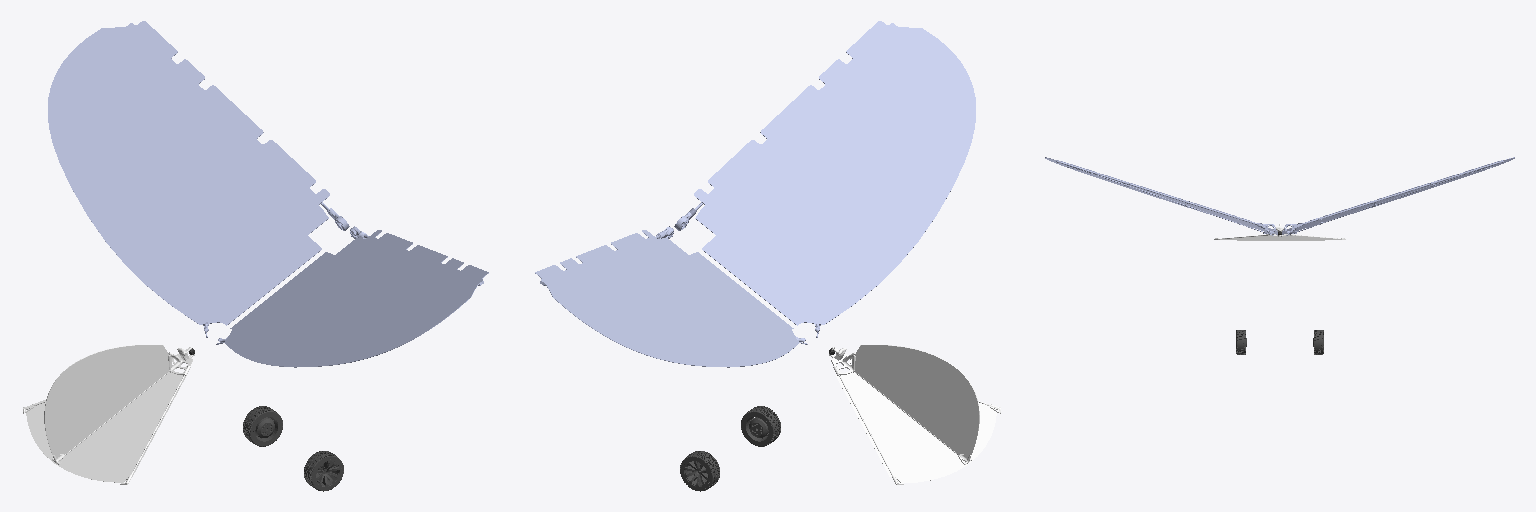
robot.urdf — 走地鹰:
<?xml version="1.0" encoding="utf-8"?>
<!-- This URDF was automatically created by SolidWorks to URDF Exporter! Originally created by Stephen Brawner (brawner@gmail.com) 
     Commit Version: 1.6.0-4-g7f85cfe  Build Version: 1.6.7995.38578
     For more information, please see http://wiki.ros.org/sw_urdf_exporter -->
<robot
  name="走地鹰">
  <link
    name="base_link">
    <inertial>
      <origin
        xyz="0.04588263 3.771E-05 0.04501853"
        rpy="0 0 0" />
      <mass
        value="1.79744014" />
      <inertia
        ixx="0.01509778"
        ixy="1.56E-06"
        ixz="-0.01047094"
        iyy="0.02513929"
        iyz="-5.9E-07"
        izz="0.01378862" />
    </inertial>
    <visual>
      <origin
        xyz="0 0 0"
        rpy="0 0 0" />
      <geometry>
        <mesh
          filename="../meshes_lod/base_link.STL" />
      </geometry>
      <material
        name="">
        <color
          rgba="0.75294 0.75294 0.75294 1" />
      </material>
    </visual>
    <collision>
      <origin
        xyz="0 0 0"
        rpy="0 0 0" />
      <geometry>
        <mesh
          filename="../meshes_lod/base_link.STL" />
      </geometry>
    </collision>
  </link>
  <link
    name="left_thigh_link">
    <inertial>
      <origin
        xyz="-0.00030482 0.01377229 0.04429555"
        rpy="0 0 0" />
      <mass
        value="0.46123591" />
      <inertia
        ixx="0.00079664"
        ixy="6.37E-06"
        ixz="-5.18E-06"
        iyy="0.0002148"
        iyz="0.00014042"
        izz="0.00066294" />
    </inertial>
    <visual>
      <origin
        xyz="0 0 0"
        rpy="0 0 0" />
      <geometry>
        <mesh
          filename="../meshes_lod/left_thigh_link.STL" />
      </geometry>
      <material
        name="">
        <color
          rgba="1 1 1 1" />
      </material>
    </visual>
    <collision>
      <origin
        xyz="0 0 0"
        rpy="0 0 0" />
      <geometry>
        <mesh
          filename="../meshes_lod/left_thigh_link.STL" />
      </geometry>
    </collision>
  </link>
  <joint
    name="left_thigh_joint"
    type="revolute">
    <origin
      xyz="0.0150530261970943 0.0558499999999976 -0.0429703632331118"
      rpy="-1.5707963267949 0 0" />
    <parent
      link="base_link" />
    <child
      link="left_thigh_link" />
    <axis
      xyz="0 0 1" />
    <limit
      lower="-1.57"
      upper="1.57"
      effort="0"
      velocity="0" />
  </joint>
  <link
    name="left_calf_link">
    <inertial>
      <origin
        xyz="-2.777E-05 0.12276 0.011335"
        rpy="0 0 0" />
      <mass
        value="0.30875" />
      <inertia
        ixx="0.00078788"
        ixy="3.9E-07"
        ixz="-1E-07"
        iyy="5.504E-05"
        iyz="-9.686E-05"
        izz="0.00077188" />
    </inertial>
    <visual>
      <origin
        xyz="0 0 0"
        rpy="0 0 0" />
      <geometry>
        <mesh
          filename="../meshes_lod/left_calf_link.STL" />
      </geometry>
      <material
        name="">
        <color
          rgba="1 0.94902 0.9098 1" />
      </material>
    </visual>
    <collision>
      <origin
        xyz="0 0 0"
        rpy="0 0 0" />
      <geometry>
        <mesh
          filename="../meshes_lod/left_calf_link.STL" />
      </geometry>
    </collision>
  </link>
  <joint
    name="left_calf_joint"
    type="revolute">
    <origin
      xyz="0.000196973802905953 0.136029636766888 0.0200000000000024"
      rpy="0 0 0" />
    <parent
      link="left_thigh_link" />
    <child
      link="left_calf_link" />
    <axis
      xyz="0 0 -1" />
    <limit
      lower="-1.57"
      upper="1.57"
      effort="0"
      velocity="0" />
  </joint>
  <link
    name="left_foot_link">
    <inertial>
      <origin
        xyz="-6.05E-06 3.53E-06 -0.0026216"
        rpy="0 0 0" />
      <mass
        value="0.12784" />
      <inertia
        ixx="7.506E-05"
        ixy="1E-08"
        ixz="1E-08"
        iyy="7.507E-05"
        iyz="0"
        izz="0.00012118" />
    </inertial>
    <visual>
      <origin
        xyz="0 0 0"
        rpy="0 0 0" />
      <geometry>
        <mesh
          filename="../meshes_lod/left_foot_link.STL" />
      </geometry>
      <material
        name="">
        <color
          rgba="0.36863 0.36863 0.36863 1" />
      </material>
    </visual>
    <collision>
      <origin
        xyz="0 0 0"
        rpy="0 0 0" />
      <geometry>
        <mesh
          filename="../meshes_lod/left_foot_link.STL" />
      </geometry>
    </collision>
  </link>
  <joint
    name="left_foot_joint"
    type="revolute">
    <origin
      xyz="0 0.149999999999687 0.0572"
      rpy="0 0 0" />
    <parent
      link="left_calf_link" />
    <child
      link="left_foot_link" />
    <axis
      xyz="0 0 -1" />
    <limit
      lower="-3.14"
      upper="3.14"
      effort="0"
      velocity="0" />
  </joint>
  <link
    name="right_thigh_link">
    <inertial>
      <origin
        xyz="-0.00056224 -0.01359115 0.04341399"
        rpy="0 0 0" />
      <mass
        value="0.47246" />
      <inertia
        ixx="0.00085033"
        ixy="-8.62E-06"
        ixz="-6.24E-06"
        iyy="0.00023242"
        iyz="-0.00015295"
        izz="0.00070428" />
    </inertial>
    <visual>
      <origin
        xyz="0 0 0"
        rpy="0 0 0" />
      <geometry>
        <mesh
          filename="../meshes_lod/right_thigh_link.STL" />
      </geometry>
      <material
        name="">
        <color
          rgba="0.86667 0.9098 1 1" />
      </material>
    </visual>
    <collision>
      <origin
        xyz="0 0 0"
        rpy="0 0 0" />
      <geometry>
        <mesh
          filename="../meshes_lod/right_thigh_link.STL" />
      </geometry>
    </collision>
  </link>
  <joint
    name="right_thigh_joint"
    type="revolute">
    <origin
      xyz="0.0152499999999884 -0.05585 -0.0431991909058702"
      rpy="1.5707963267949 0 0" />
    <parent
      link="base_link" />
    <child
      link="right_thigh_link" />
    <axis
      xyz="0 0 1" />
    <limit
      lower="-1.57"
      upper="1.57"
      effort="0"
      velocity="0" />
  </joint>
  <link
    name="right_calf_link">
    <inertial>
      <origin
        xyz="-3.151E-05 -0.12276 0.011337"
        rpy="0 0 0" />
      <mass
        value="0.30875" />
      <inertia
        ixx="0.00078703"
        ixy="-4.6E-07"
        ixz="-9E-08"
        iyy="5.499E-05"
        iyz="9.685E-05"
        izz="0.00077102" />
    </inertial>
    <visual>
      <origin
        xyz="0 0 0"
        rpy="0 0 0" />
      <geometry>
        <mesh
          filename="../meshes_lod/right_calf_link.STL" />
      </geometry>
      <material
        name="">
        <color
          rgba="1 0.94902 0.9098 1" />
      </material>
    </visual>
    <collision>
      <origin
        xyz="0 0 0"
        rpy="0 0 0" />
      <geometry>
        <mesh
          filename="../meshes_lod/right_calf_link.STL" />
      </geometry>
    </collision>
  </link>
  <joint
    name="right_calf_joint"
    type="revolute">
    <origin
      xyz="0 -0.13580080909413 0.02"
      rpy="0 0 0" />
    <parent
      link="right_thigh_link" />
    <child
      link="right_calf_link" />
    <axis
      xyz="0 0 1" />
    <limit
      lower="-1.57"
      upper="1.57"
      effort="0"
      velocity="0" />
  </joint>
  <link
    name="right_foot_link">
    <inertial>
      <origin
        xyz="6.08E-06 -3.47E-06 0.0026216"
        rpy="0 0 0" />
      <mass
        value="0.12784" />
      <inertia
        ixx="7.506E-05"
        ixy="1E-08"
        ixz="1E-08"
        iyy="7.507E-05"
        iyz="0"
        izz="0.00012118" />
    </inertial>
    <visual>
      <origin
        xyz="0 0 0"
        rpy="0 0 0" />
      <geometry>
        <mesh
          filename="../meshes_lod/right_foot_link.STL" />
      </geometry>
      <material
        name="">
        <color
          rgba="0.36863 0.36863 0.36863 1" />
      </material>
    </visual>
    <collision>
      <origin
        xyz="0 0 0"
        rpy="0 0 0" />
      <geometry>
        <mesh
          filename="../meshes_lod/right_foot_link.STL" />
      </geometry>
    </collision>
  </link>
  <joint
    name="right_foot_joint"
    type="revolute">
    <origin
      xyz="0 -0.150000000000294 0.0572000000000011"
      rpy="3.14159265358979 0 0" />
    <parent
      link="right_calf_link" />
    <child
      link="right_foot_link" />
    <axis
      xyz="0 0 1" />
    <limit
      lower="-3.14"
      upper="3.14"
      effort="0"
      velocity="0" />
  </joint>
  <link
    name="left_wing_link">
    <inertial>
      <origin
        xyz="-0.04294591 0.29416066 -0.11926569"
        rpy="0 0 0" />
      <mass
        value="0.06633" />
      <inertia
        ixx="0.00448339"
        ixy="0.00104762"
        ixz="0.00028627"
        iyy="0.0013905"
        iyz="0.00046497"
        izz="0.00414202" />
    </inertial>
    <visual>
      <origin
        xyz="0 0 0"
        rpy="0 0 0" />
      <geometry>
        <mesh
          filename="../meshes_lod/left_wing_link.STL" />
      </geometry>
      <material
        name="">
        <color
          rgba="0.79216 0.81961 0.93333 1" />
      </material>
    </visual>
    <collision>
      <origin
        xyz="0 0 0"
        rpy="0 0 0" />
      <geometry>
        <mesh
          filename="../meshes_lod/left_wing_link.STL" />
      </geometry>
    </collision>
  </link>
  <joint
    name="left_wing_joint"
    type="revolute">
    <origin
      xyz="0.14789 0.031025 0.15872"
      rpy="0 1.5708 0" />
    <parent
      link="base_link" />
    <child
      link="left_wing_link" />
    <axis
      xyz="0.46947 0 -0.88295" />
    <limit
      lower="-0.785"
      upper="0.785"
      effort="0"
      velocity="0" />
  </joint>
  <link
    name="right_wing_link">
    <inertial>
      <origin
        xyz="-0.0449619 -0.29814273 -0.11806333"
        rpy="0 0 0" />
      <mass
        value="0.06506" />
      <inertia
        ixx="0.00442133"
        ixy="-0.00102317"
        ixz="0.00027117"
        iyy="0.00135694"
        iyz="-0.00048216"
        izz="0.0040807" />
    </inertial>
    <visual>
      <origin
        xyz="0 0 0"
        rpy="0 0 0" />
      <geometry>
        <mesh
          filename="../meshes_lod/right_wing_link.STL" />
      </geometry>
      <material
        name="">
        <color
          rgba="0.79216 0.81961 0.93333 1" />
      </material>
    </visual>
    <collision>
      <origin
        xyz="0 0 0"
        rpy="0 0 0" />
      <geometry>
        <mesh
          filename="../meshes_lod/right_wing_link.STL" />
      </geometry>
    </collision>
  </link>
  <joint
    name="right_wing_joint"
    type="revolute">
    <origin
      xyz="0.14789 -0.030975 0.15872"
      rpy="0 1.5708 0" />
    <parent
      link="base_link" />
    <child
      link="right_wing_link" />
    <axis
      xyz="0.46947 0 -0.88295" />
    <limit
      lower="-0.785"
      upper="0.785"
      effort="0"
      velocity="0" />
  </joint>
  <link
    name="U1_link">
    <inertial>
      <origin
        xyz="0 0 -0.00665"
        rpy="0 0 0" />
      <mass
        value="0.00162207" />
      <inertia
        ixx="4E-08"
        ixy="0"
        ixz="0"
        iyy="4E-08"
        iyz="0"
        izz="4E-08" />
    </inertial>
    <visual>
      <origin
        xyz="0 0 0"
        rpy="0 0 0" />
      <geometry>
        <mesh
          filename="../meshes_lod/U1_link.STL" />
      </geometry>
      <material
        name="">
        <color
          rgba="0.29804 0.29804 0.29804 1" />
      </material>
    </visual>
    <collision>
      <origin
        xyz="0 0 0"
        rpy="0 0 0" />
      <geometry>
        <mesh
          filename="../meshes_lod/U1_link.STL" />
      </geometry>
    </collision>
  </link>
  <joint
    name="U1_joint"
    type="revolute">
    <origin
      xyz="-0.2383 0.0067051 -0.038129"
      rpy="-1.5708 -0.48869 0" />
    <parent
      link="base_link" />
    <child
      link="U1_link" />
    <axis
      xyz="0 0 -1" />
    <limit
      lower="-0.785"
      upper="0.785"
      effort="0"
      velocity="0" />
  </joint>
  <link
    name="U2_link">
    <inertial>
      <origin
        xyz="-0.16198053 0.00053672 0.00551936"
        rpy="0 0 0" />
      <mass
        value="0.0462933" />
      <inertia
        ixx="0.00032768"
        ixy="1.95E-06"
        ixz="3.131E-05"
        iyy="0.00077081"
        iyz="4.5E-07"
        izz="0.0009803" />
    </inertial>
    <visual>
      <origin
        xyz="0 0 0"
        rpy="0 0 0" />
      <geometry>
        <mesh
          filename="../meshes_lod/U2_link.STL" />
      </geometry>
      <material
        name="">
        <color
          rgba="1 1 1 1" />
      </material>
    </visual>
    <collision>
      <origin
        xyz="0 0 0"
        rpy="0 0 0" />
      <geometry>
        <mesh
          filename="../meshes_lod/U2_link.STL" />
      </geometry>
    </collision>
  </link>
  <joint
    name="U2_joint"
    type="revolute">
    <origin
      xyz="0 -0.00673 -0.00665"
      rpy="1.5708 0 0" />
    <parent
      link="U1_link" />
    <child
      link="U2_link" />
    <axis
      xyz="0 0 1" />
    <limit
      lower="-0.785"
      upper="0.785"
      effort="0"
      velocity="0" />
  </joint>
</robot>

--- What the picture shows (computed from the rendered views, not written in the file) ---
The picture shows the robot from 3 angles, left to right: view 1: azimuth 30°, elevation 25°; view 2: azimuth 150°, elevation 25°; view 3: azimuth 270°, elevation 25°; orthographic projection.
Robot: 走地鹰 — 11 links, 10 joints (10 revolute); root link base_link; default pose: all joints at 0.
Visible links, largest first — view 1: left_wing_link, right_wing_link, U2_link, left_foot_link, right_foot_link; view 2: right_wing_link, left_wing_link, U2_link, right_foot_link, left_foot_link; view 3: left_wing_link, right_wing_link, U2_link.
Link boxes in pixels (x1=…): left_wing_link: x1=48, y1=21, x2=349, y2=337; right_wing_link: x1=216, y1=226, x2=488, y2=367; U2_link: x1=23, y1=345, x2=194, y2=484; left_foot_link: x1=243, y1=406, x2=282, y2=446; right_foot_link: x1=304, y1=451, x2=343, y2=491; right_wing_link: x1=674, y1=21, x2=975, y2=337; left_wing_link: x1=535, y1=226, x2=807, y2=367; U2_link: x1=829, y1=345, x2=1000, y2=484; right_foot_link: x1=741, y1=406, x2=780, y2=446; left_foot_link: x1=680, y1=451, x2=719, y2=491; left_wing_link: x1=1282, y1=157, x2=1514, y2=235; right_wing_link: x1=1045, y1=157, x2=1277, y2=235; U2_link: x1=1214, y1=224, x2=1345, y2=240.
Size in the robot's own frame: 0.7753 by 1.6 by 0.7496 metres.
6 mesh visuals loaded from 11 distinct referenced files (6 binary STL); not drawn: 5 (reference not matched to a file when rendering).
